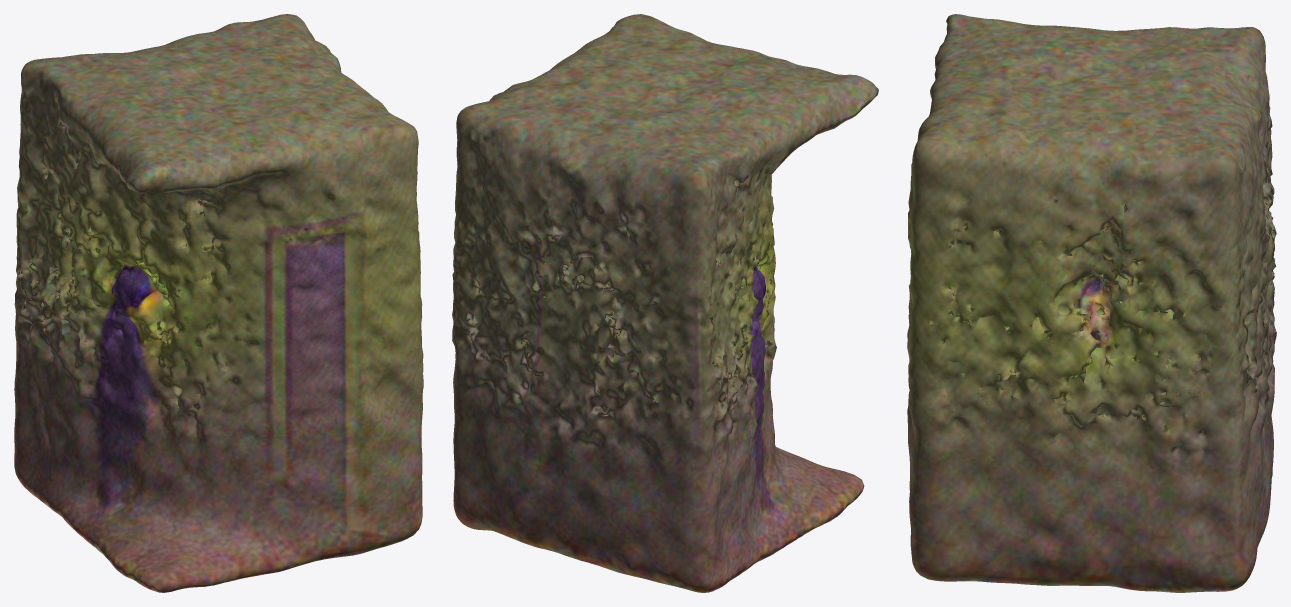
The picture shows the model from 3 angles, left to right: view 1: azimuth 30°, elevation 25°; view 2: azimuth 150°, elevation 25°; view 3: azimuth 270°, elevation 25°; orthographic projection. The views are drawn at different scales.
Visible parts, largest first — view 1: Mesh1; view 2: Mesh1; view 3: Mesh1.
Boxes of the visible parts, left/top/right/bottom form: Mesh1: left=14, top=14, right=423, bottom=592; Mesh1: left=452, top=14, right=878, bottom=592; Mesh1: left=907, top=14, right=1276, bottom=592.
Size of the model in its own units: 0.8754 by 1.2 by 0.8818.
Materials: 1 (1 with a texture image).
